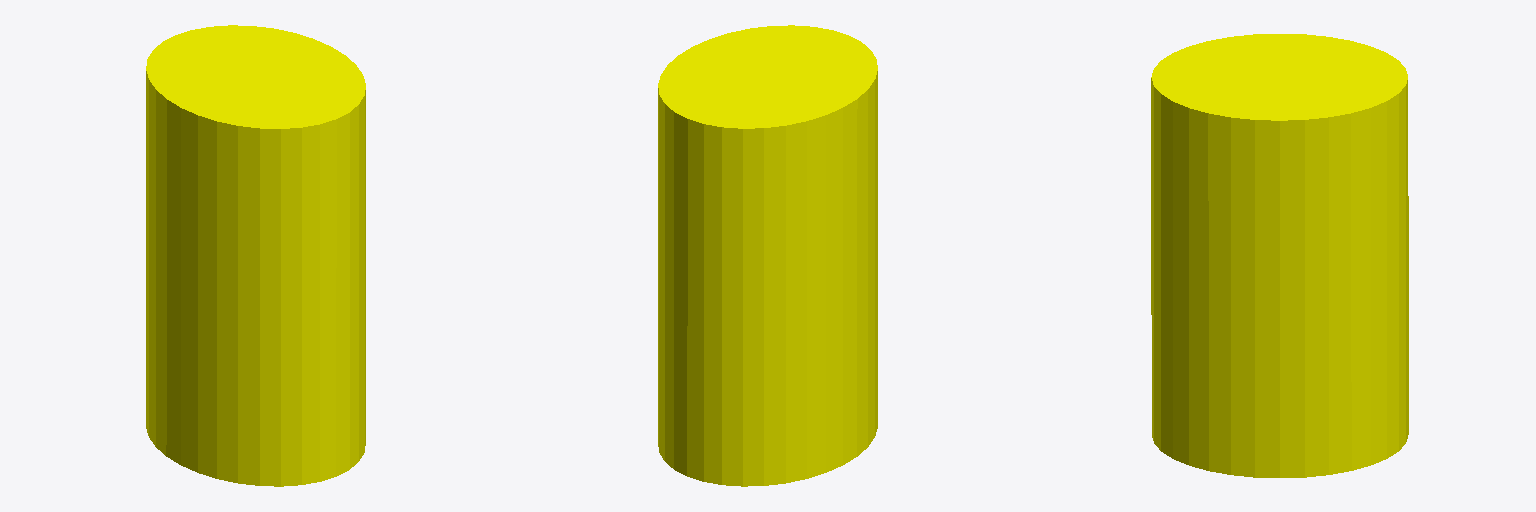
File: Gkuka2.obj
The picture shows the model from 3 angles: view 1: azimuth 30°, elevation 25°; view 2: azimuth 150°, elevation 25°; view 3: azimuth 270°, elevation 25°; orthographic projection.
Parts seen in each view (by area): view 1: unnamed_object1; view 2: unnamed_object1; view 3: unnamed_object1.
Part boxes in pixels (left/top/right/bottom): unnamed_object1: left=146, top=25, right=365, bottom=486; unnamed_object1: left=658, top=25, right=877, bottom=486; unnamed_object1: left=1151, top=34, right=1408, bottom=477.
Size of the model in its own units: 0.1317 by 0.2519 by 0.1642.